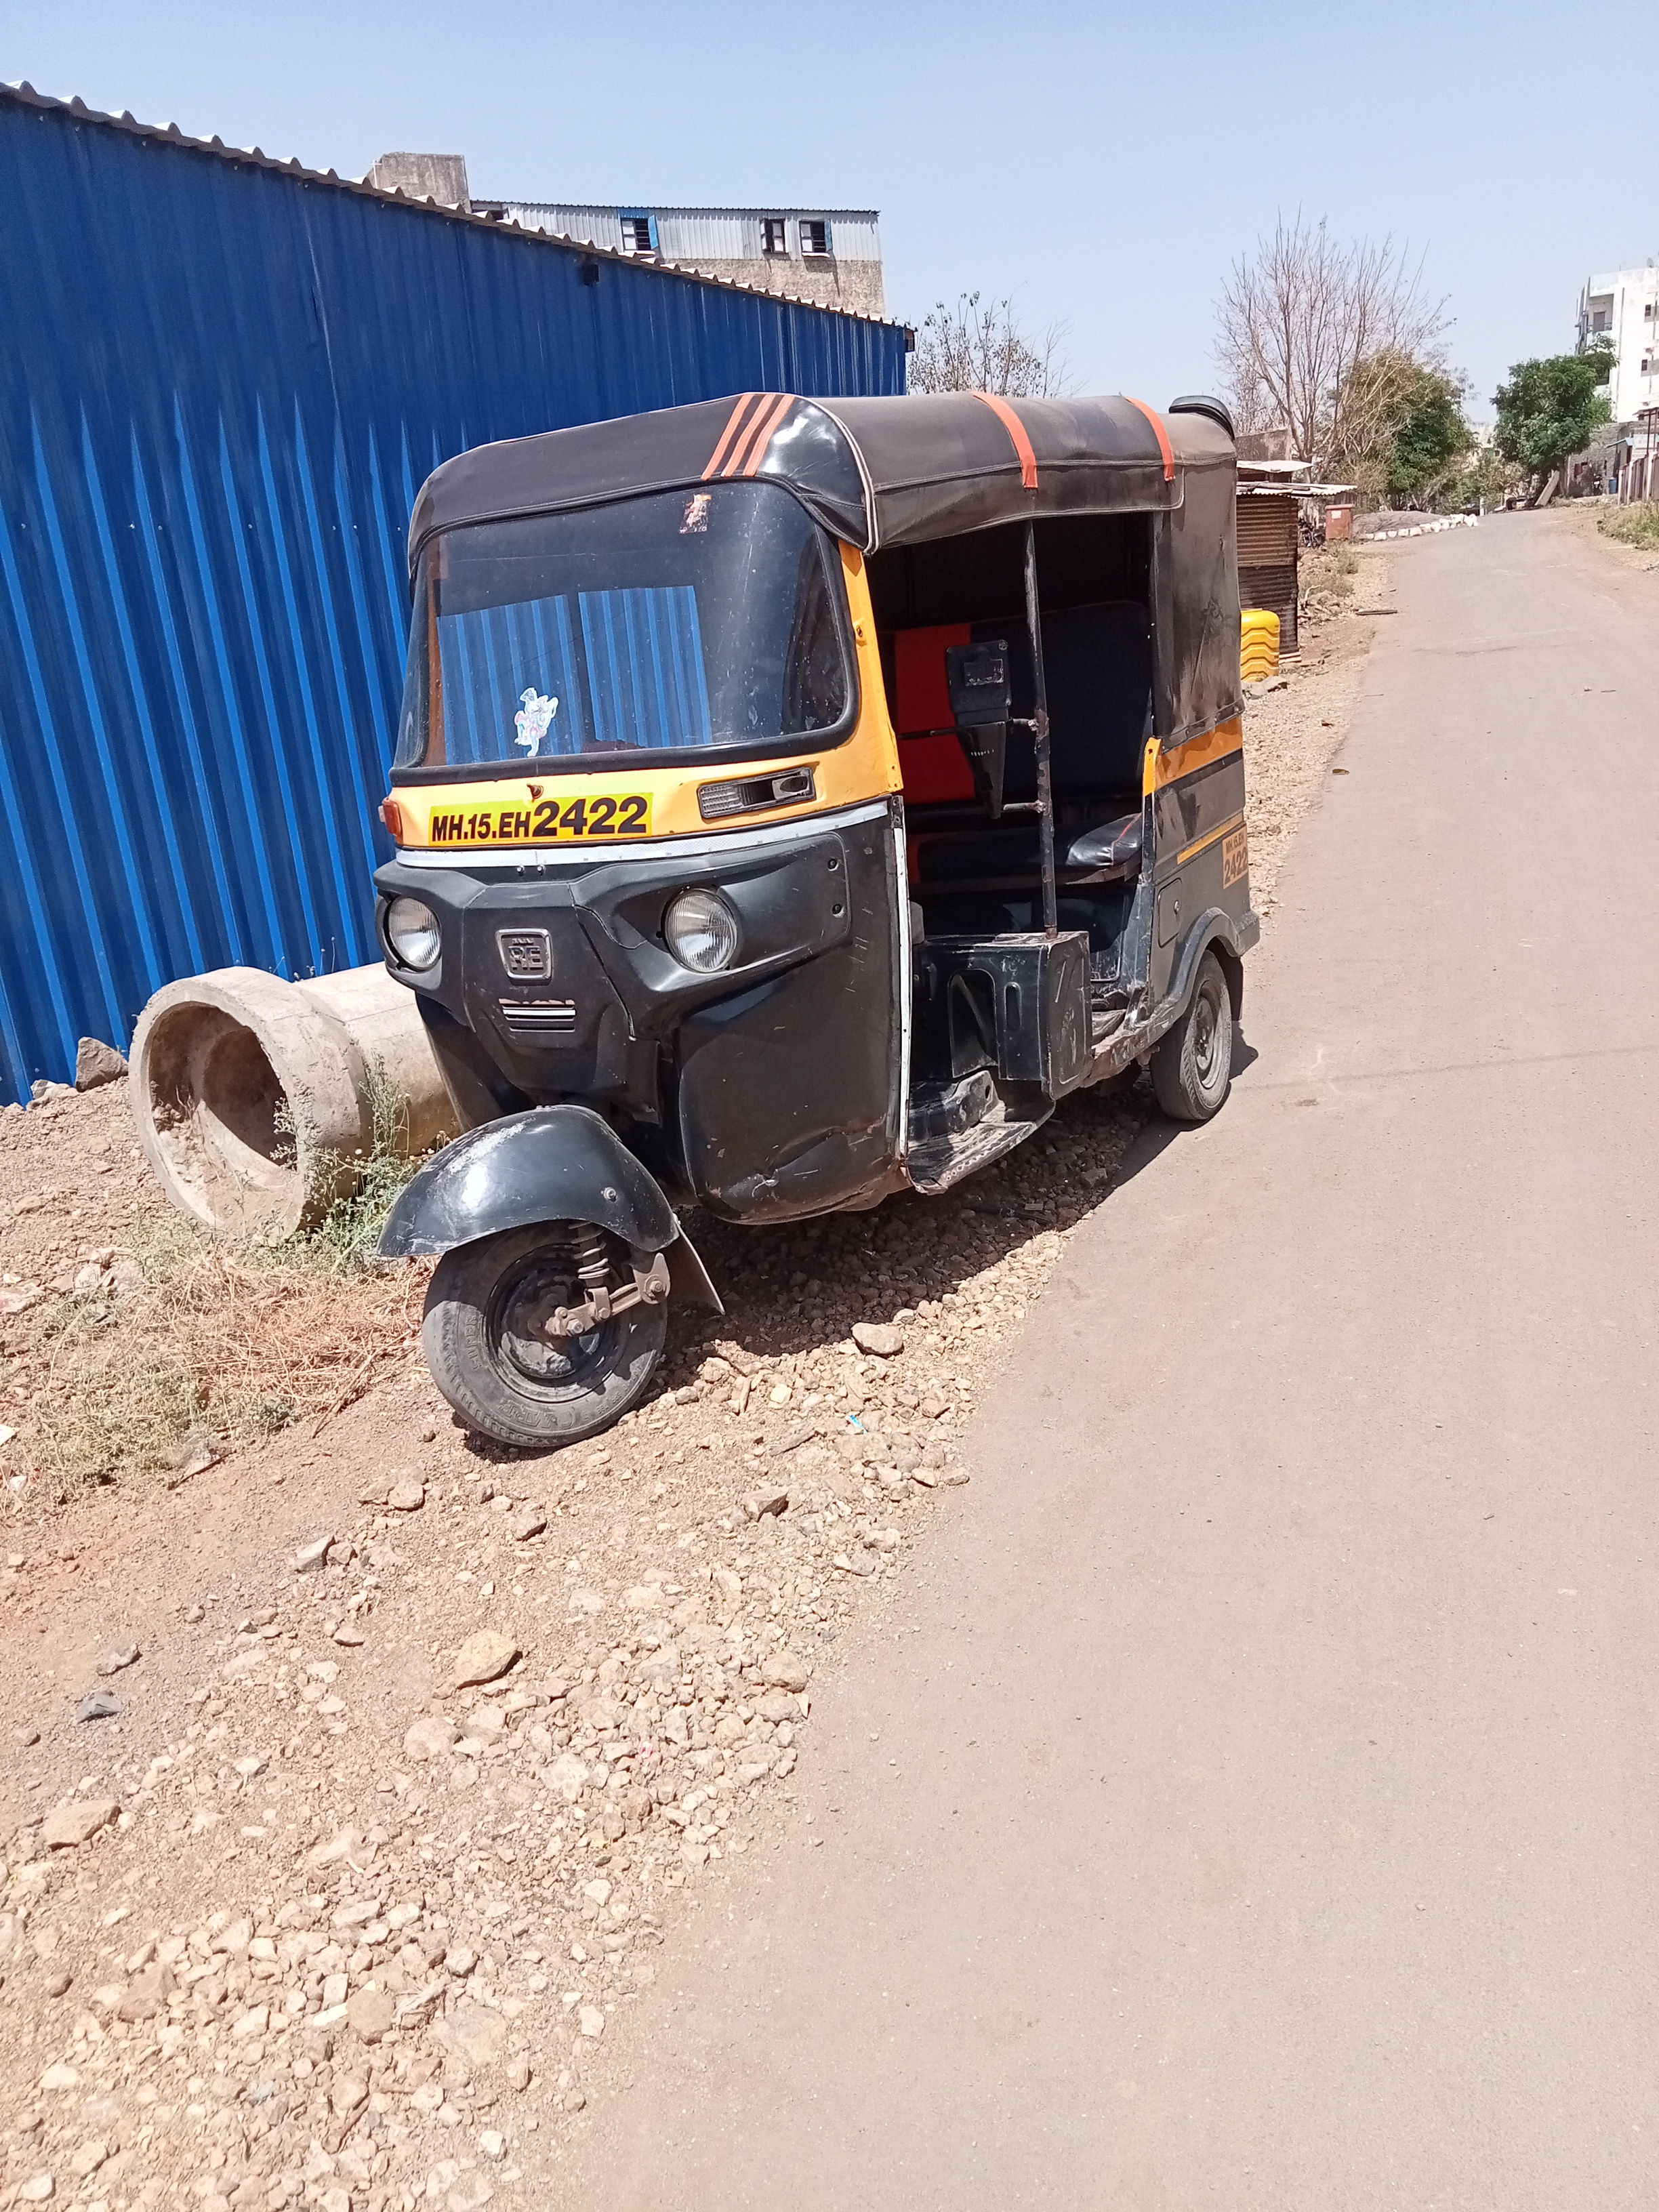auto: (360, 384, 1263, 1463)
number_plate: (415, 790, 668, 856)
